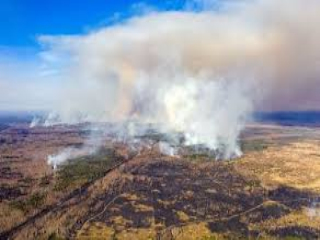smoke: (73, 51, 265, 167)
